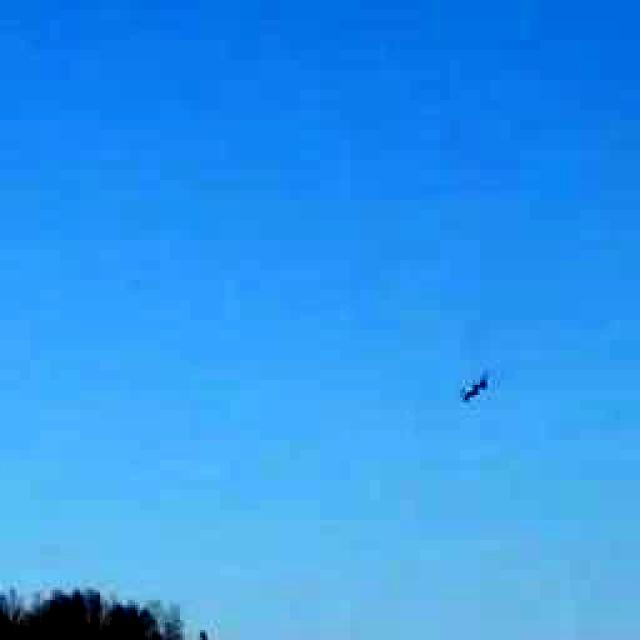bird: (436, 352, 511, 422)
